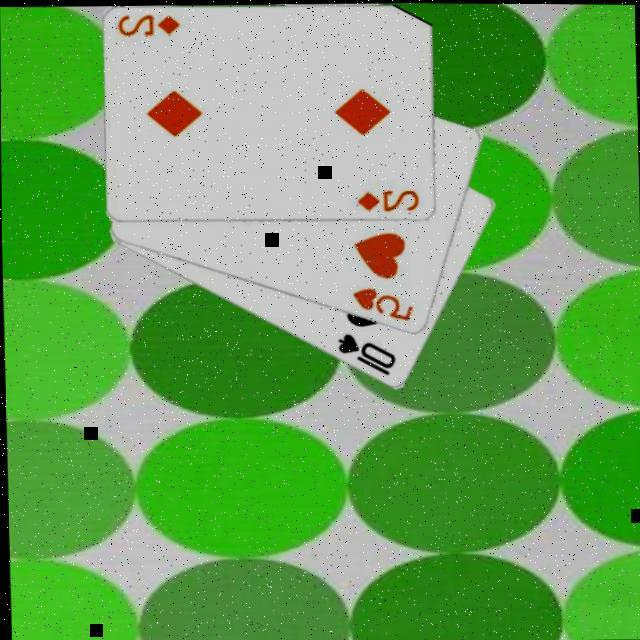10S: (334, 326, 399, 377)
2D: (355, 184, 423, 213), (115, 8, 183, 37)
5H: (349, 282, 416, 322)
